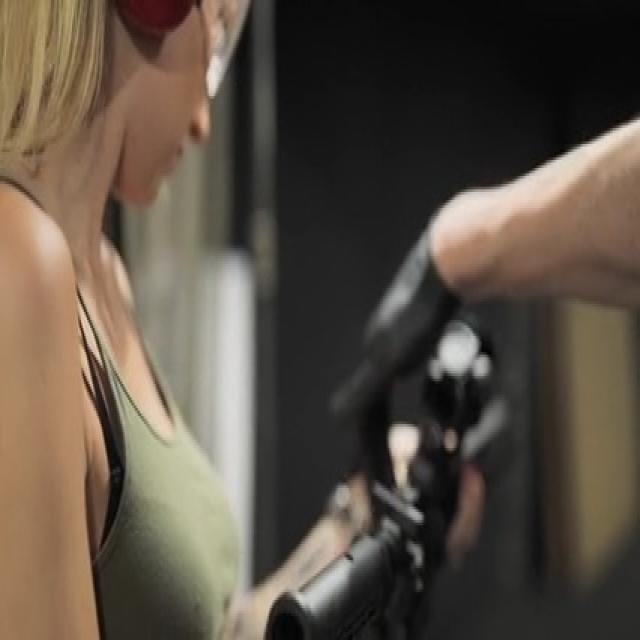Gun_Holder: (204, 298, 636, 640)
Person: (0, 0, 294, 640)
